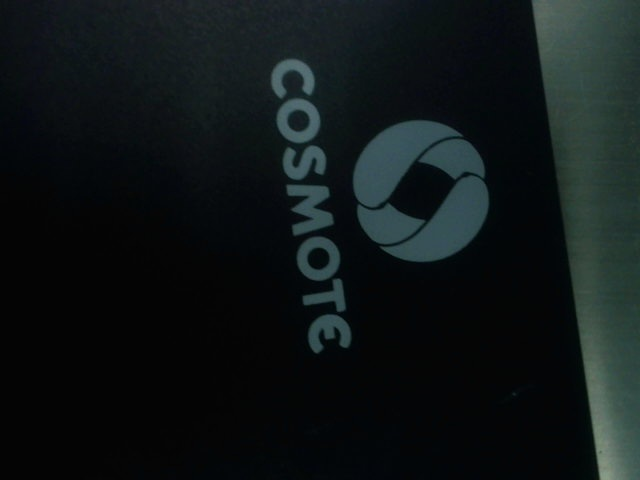AU_COSMOTE: (255, 55, 495, 360)
